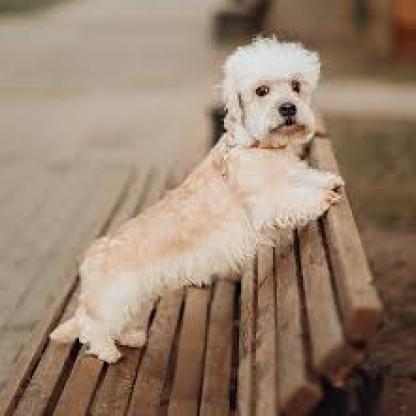Dandie Dinmont Terrier: (44, 23, 352, 369)
